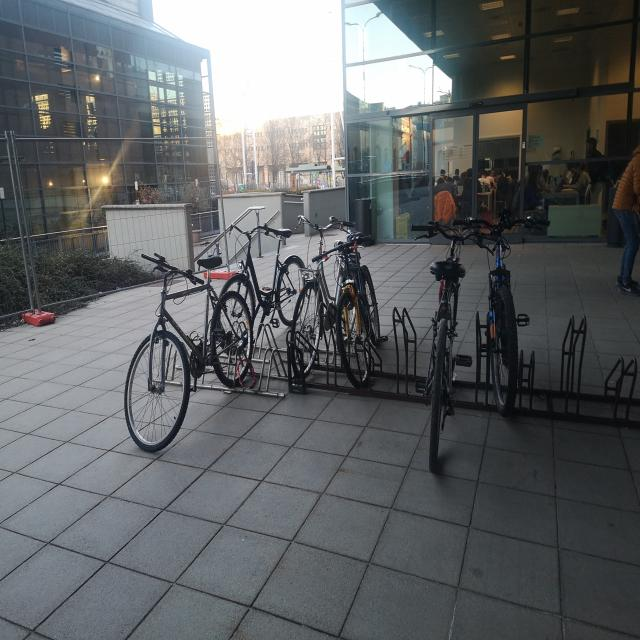Bicycle: (130, 209, 258, 455), (467, 204, 549, 408), (329, 208, 393, 393), (420, 211, 462, 477), (225, 208, 303, 336), (290, 203, 334, 384)
